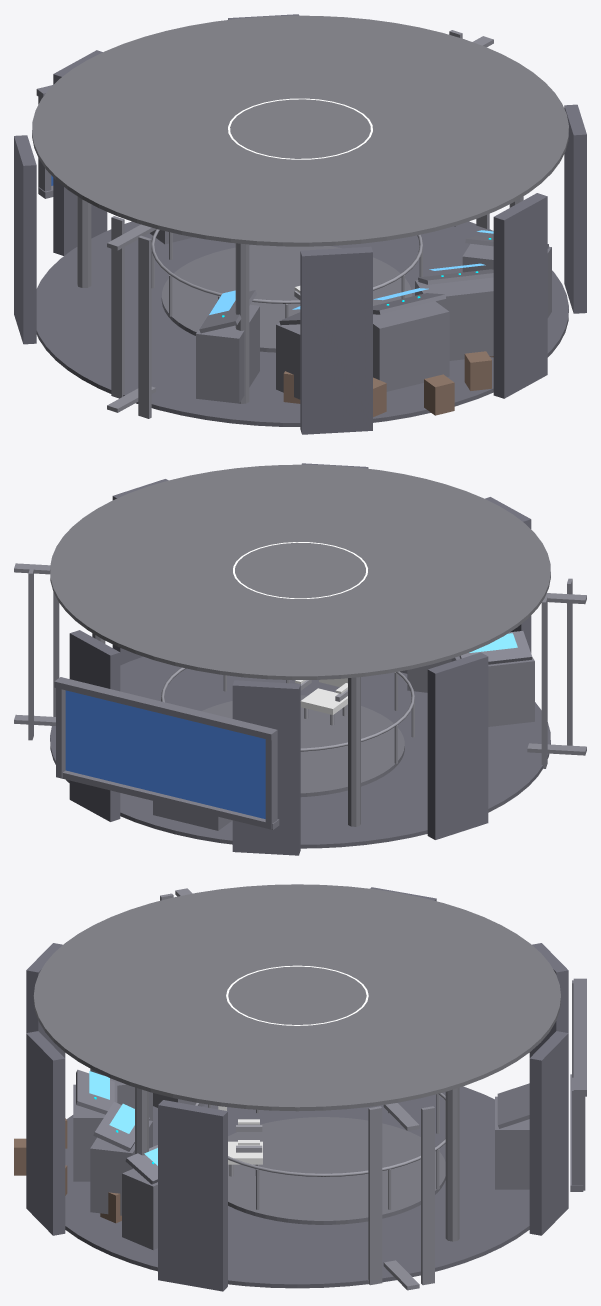
The model's file is bridge.glb.
3 views of the same model, one above another, from view 1: azimuth 30°, elevation 25°; view 2: azimuth 150°, elevation 25°; view 3: azimuth 270°, elevation 25° (orthographic). The views are drawn at different scales.
Parts seen in each view (by area): view 1: Ceiling, BridgeFloor, WallSegment_5, WallSegment_6, CommandDeck, Console_2, WallSegment_3, WallSegment_7, Console_0, Console_3, DoorFrame_4_-0.3, WallSegment_2 (+12 smaller); view 2: Ceiling, BridgeFloor, Viewscreen, WallSegment_3, WallSegment_2, CommandDeck, WallSegment_1, Console_0, ViewscreenFrame_Top, ViewscreenFrame_Bottom, Pylon_135, DoorFrame_4_0.3 (+13 smaller); view 3: Ceiling, BridgeFloor, CommandDeck, WallSegment_7, WallSegment_6, WallSegment_1, DoorFrame_0_-0.3, Console_4, DoorFrame_0_0.3, Console_5, Console_3, Pylon_45 (+14 smaller).
Boxes of the visible parts, left/top/right/bottom form: Ceiling: left=32, top=15, right=568, bottom=246; BridgeFloor: left=36, top=221, right=568, bottom=426; WallSegment_5: left=300, top=246, right=372, bottom=434; WallSegment_6: left=493, top=193, right=547, bottom=398; CommandDeck: left=161, top=245, right=412, bottom=352; Console_2: left=373, top=301, right=449, bottom=391; WallSegment_3: left=14, top=135, right=36, bottom=344; WallSegment_7: left=564, top=104, right=586, bottom=313; Console_0: left=196, top=301, right=259, bottom=403; Console_3: left=415, top=277, right=493, bottom=360; DoorFrame_4_-0.3: left=138, top=235, right=151, bottom=418; WallSegment_2: left=53, top=50, right=107, bottom=255; Ceiling: left=50, top=464, right=550, bottom=680; BridgeFloor: left=50, top=656, right=550, bottom=848; Viewscreen: left=65, top=690, right=265, bottom=818; WallSegment_3: left=427, top=652, right=488, bottom=839; WallSegment_2: left=232, top=680, right=300, bottom=855; CommandDeck: left=201, top=695, right=404, bottom=797; WallSegment_1: left=69, top=630, right=120, bottom=821; Console_0: left=451, top=656, right=534, bottom=726; ViewscreenFrame_Top: left=54, top=677, right=277, bottom=740; ViewscreenFrame_Bottom: left=56, top=770, right=279, bottom=829; Pylon_135: left=348, top=677, right=360, bottom=826; DoorFrame_4_0.3: left=541, top=597, right=547, bottom=768; Ceiling: left=33, top=884, right=560, bottom=1111; BridgeFloor: left=65, top=1086, right=529, bottom=1288; CommandDeck: left=228, top=1117, right=445, bottom=1224; WallSegment_7: left=158, top=1100, right=227, bottom=1291; WallSegment_6: left=26, top=1031, right=65, bottom=1235; WallSegment_1: left=529, top=1031, right=568, bottom=1235; DoorFrame_0_-0.3: left=368, top=1106, right=382, bottom=1285; Console_4: left=122, top=1168, right=157, bottom=1249; DoorFrame_0_0.3: left=421, top=1106, right=434, bottom=1285; Console_5: left=495, top=1096, right=529, bottom=1189; Console_3: left=90, top=1120, right=152, bottom=1215; Pylon_45: left=445, top=1087, right=459, bottom=1241.
Bounding box in the file's own units: 6.43 × 2.28 × 6.52.
